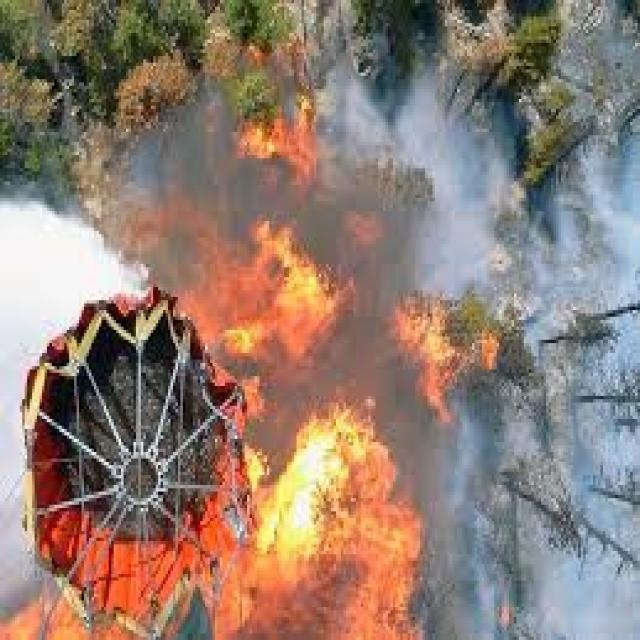Fire: (267, 382, 432, 638), (233, 218, 351, 364), (398, 303, 503, 414), (244, 76, 330, 205)
Smoke: (311, 65, 512, 307), (393, 527, 631, 635), (566, 162, 632, 305)
